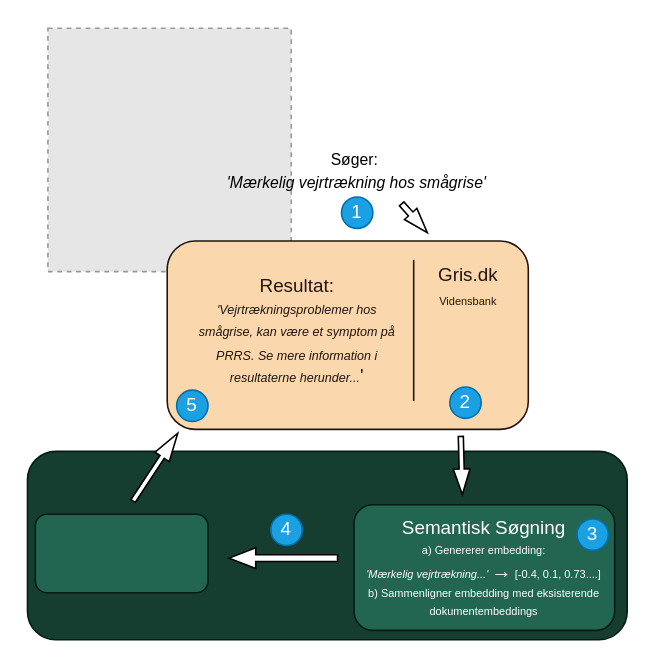
Image size: 655x667. Some labels were removed from this diagram. Grey dashed boxes stand in for pictures. Here are the shapes that lost their labels. From the top down, the box of each, then its label:
(34, 513, 208, 593): LLM Genererer svar
(26, 450, 627, 640): AI Microservice
